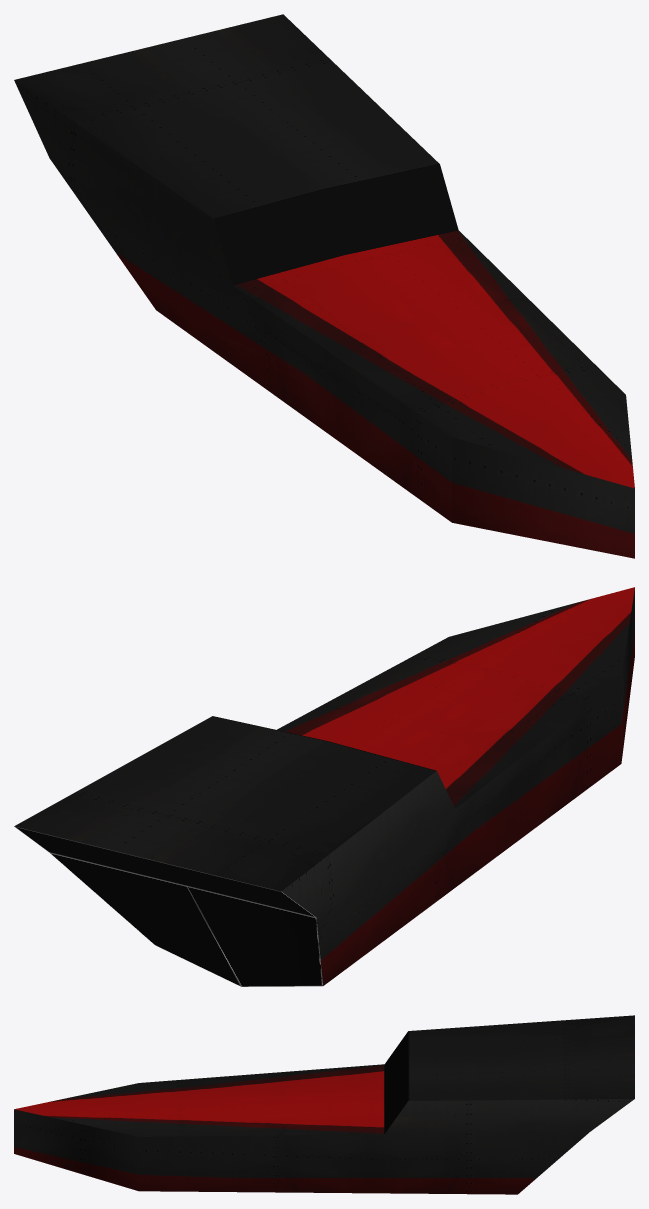
File: speederBoat02_RED.fbx
The picture shows the model from 3 angles, top to bottom: view 1: azimuth 30°, elevation 25°; view 2: azimuth 150°, elevation 25°; view 3: azimuth 270°, elevation 25°; orthographic projection. The views are drawn at different scales.
Visible parts, largest first — view 1: pCube1; view 2: pCube1; view 3: pCube1.
Part boxes in pixels (x1=…): pCube1: x1=14, y1=14, x2=634, y2=558; pCube1: x1=14, y1=587, x2=634, y2=986; pCube1: x1=14, y1=1015, x2=634, y2=1194.
Size of the model in its own units: 12.45 by 8.64 by 39.11.
Materials: 1 (1 with a texture image).
